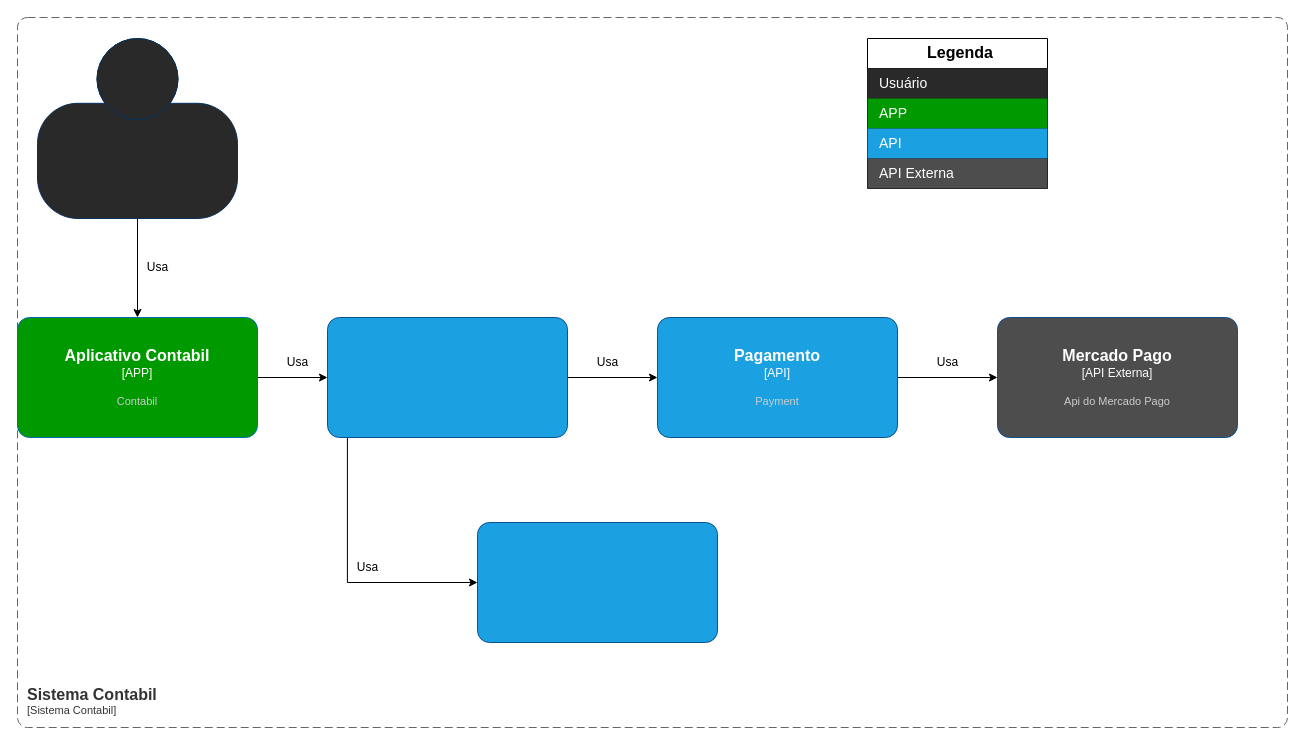
The diagram is 1305 pixels wide and 745 high, and some of its shapes have lost their labels. Each missing label, with the box of its shape:
backend Contabil [API] Contabil: (326, 316, 568, 438)
Microempreendedor [Usuário] Microempreendedor: (36, 38, 238, 218)
Notificador [API] notificator: (476, 522, 718, 642)
